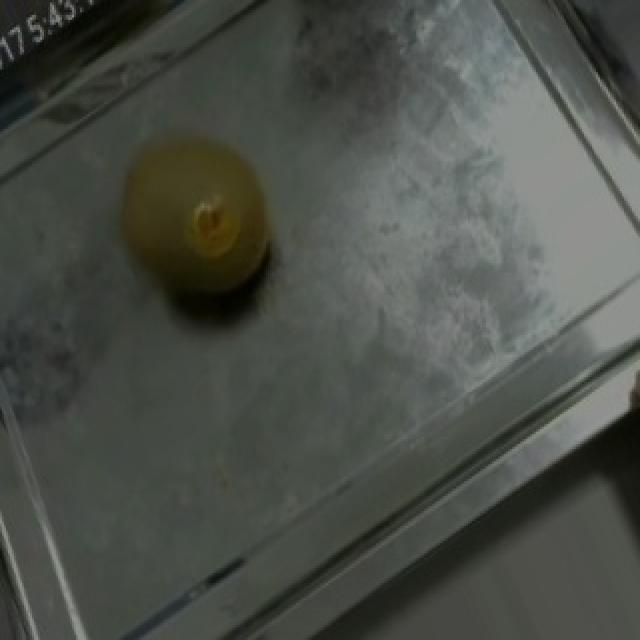Fruit: (74, 99, 314, 350)
